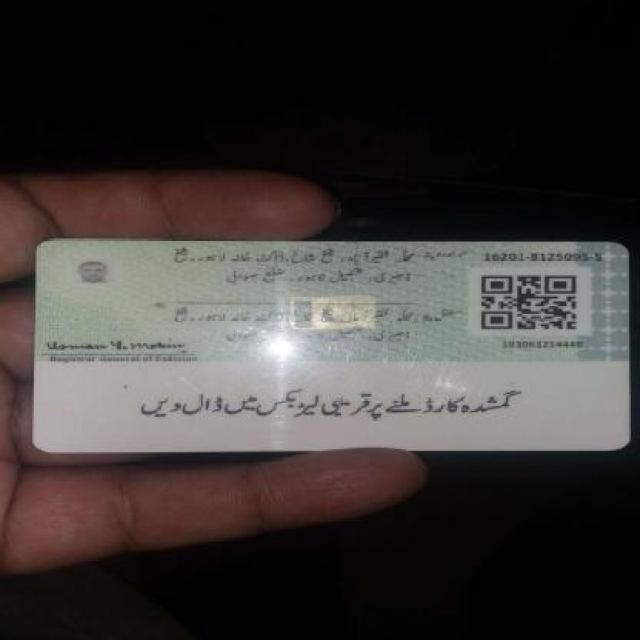Back: (21, 231, 637, 454)
